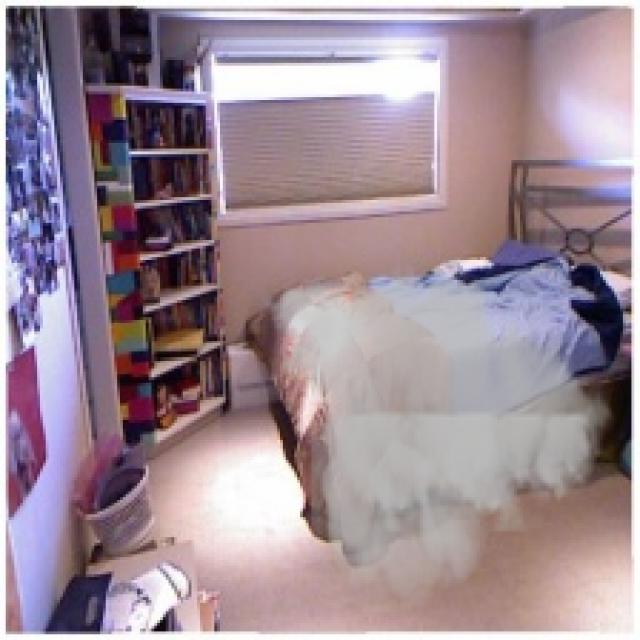smoke: (254, 260, 623, 611)
